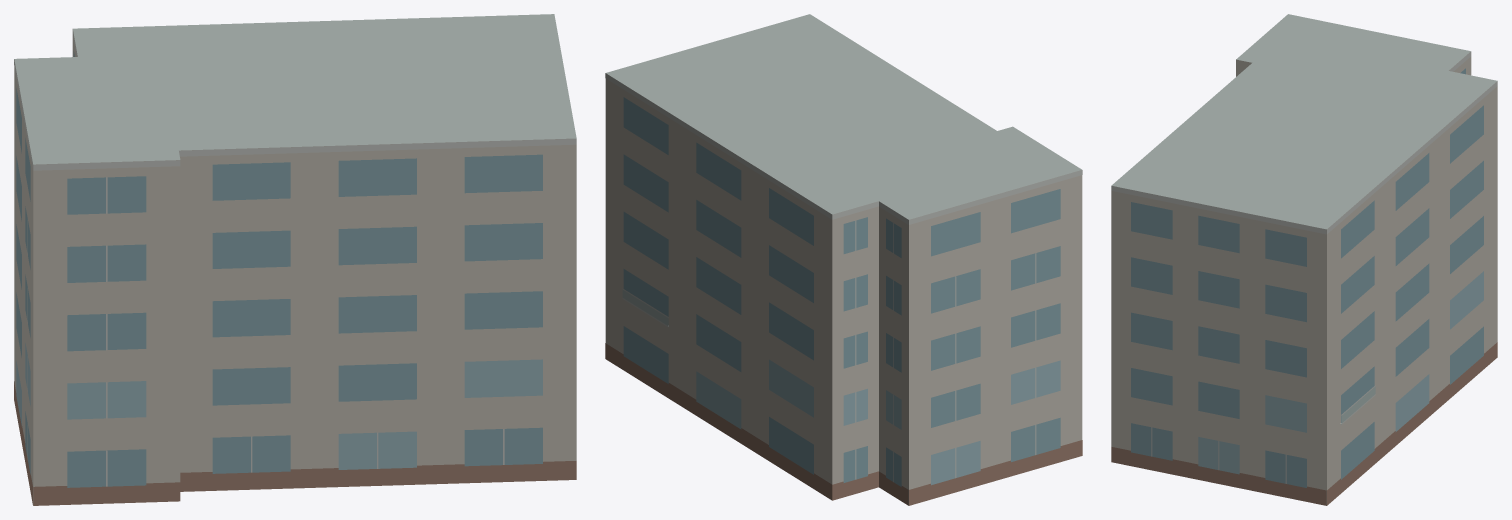
The model's file is survey-upis-32918020.glb.
The picture shows the model from 3 angles, left to right: view 1: azimuth 30°, elevation 25°; view 2: azimuth 150°, elevation 25°; view 3: azimuth 270°, elevation 25°; orthographic projection. The views are drawn at different scales.
Parts seen in each view (by area): view 1: survey-upis-32918020.tmp; view 2: survey-upis-32918020.tmp; view 3: survey-upis-32918020.tmp.
Boxes of the visible parts, left/top/right/bottom form: survey-upis-32918020.tmp: left=14, top=14, right=576, bottom=505; survey-upis-32918020.tmp: left=605, top=14, right=1082, bottom=505; survey-upis-32918020.tmp: left=1111, top=14, right=1497, bottom=505.
Size of the model in its own units: 22.41 by 13.4 by 16.99.
